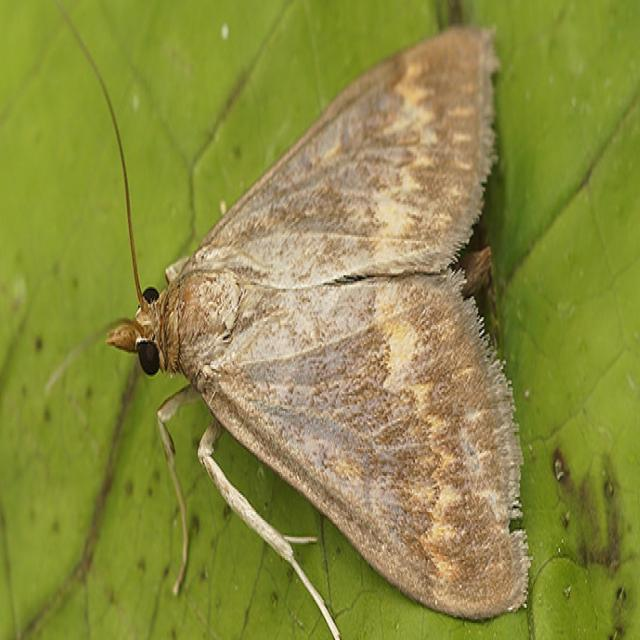cornborer-Adult-: (94, 20, 544, 626)
